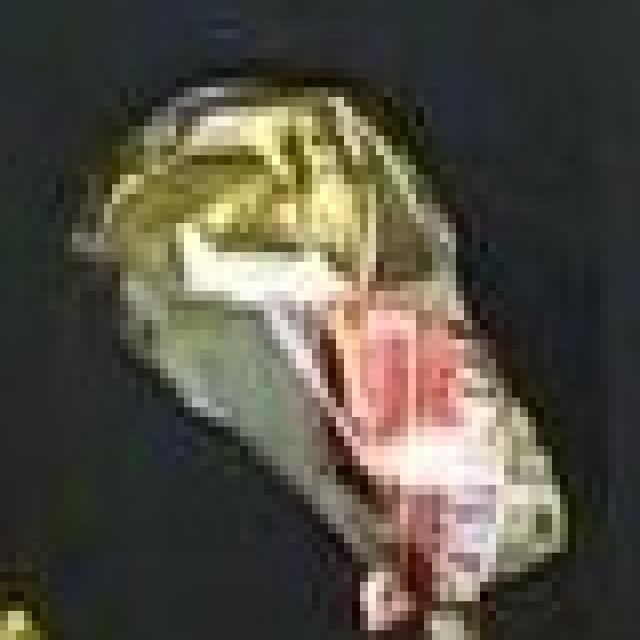can: (34, 46, 632, 635)
